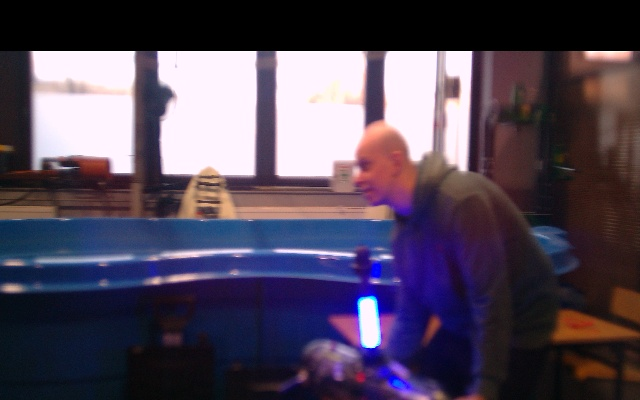blue: (357, 295, 381, 348)
